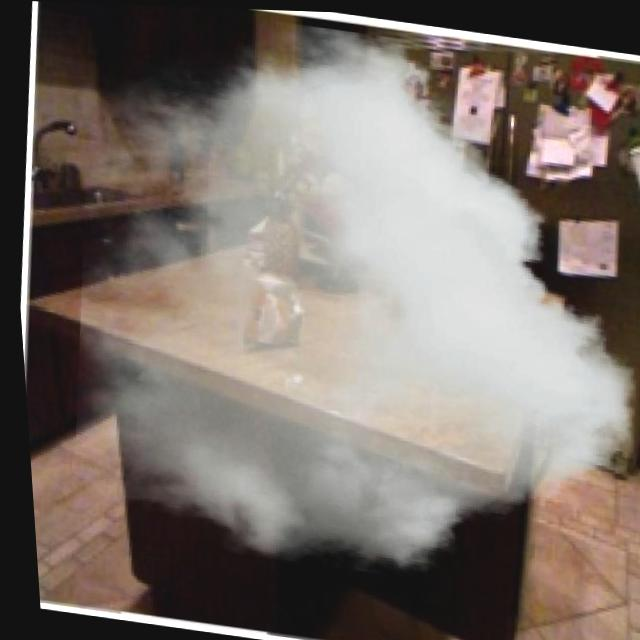no_helmet: (64, 3, 640, 604)
